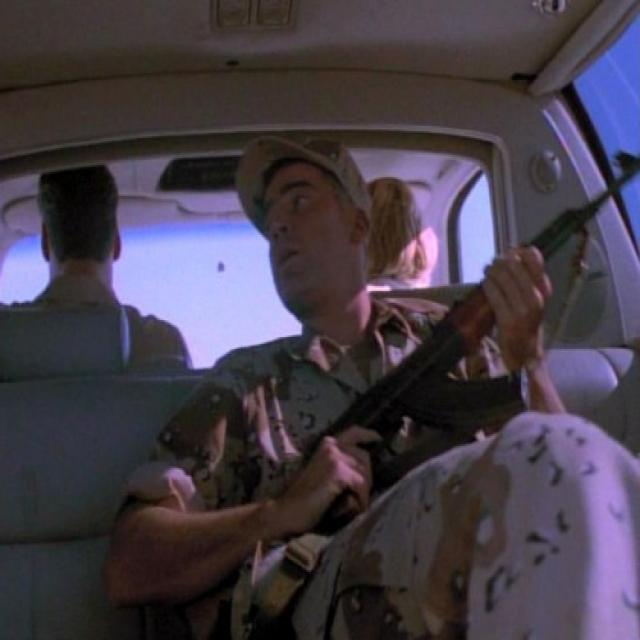rifle: (304, 147, 640, 537)
